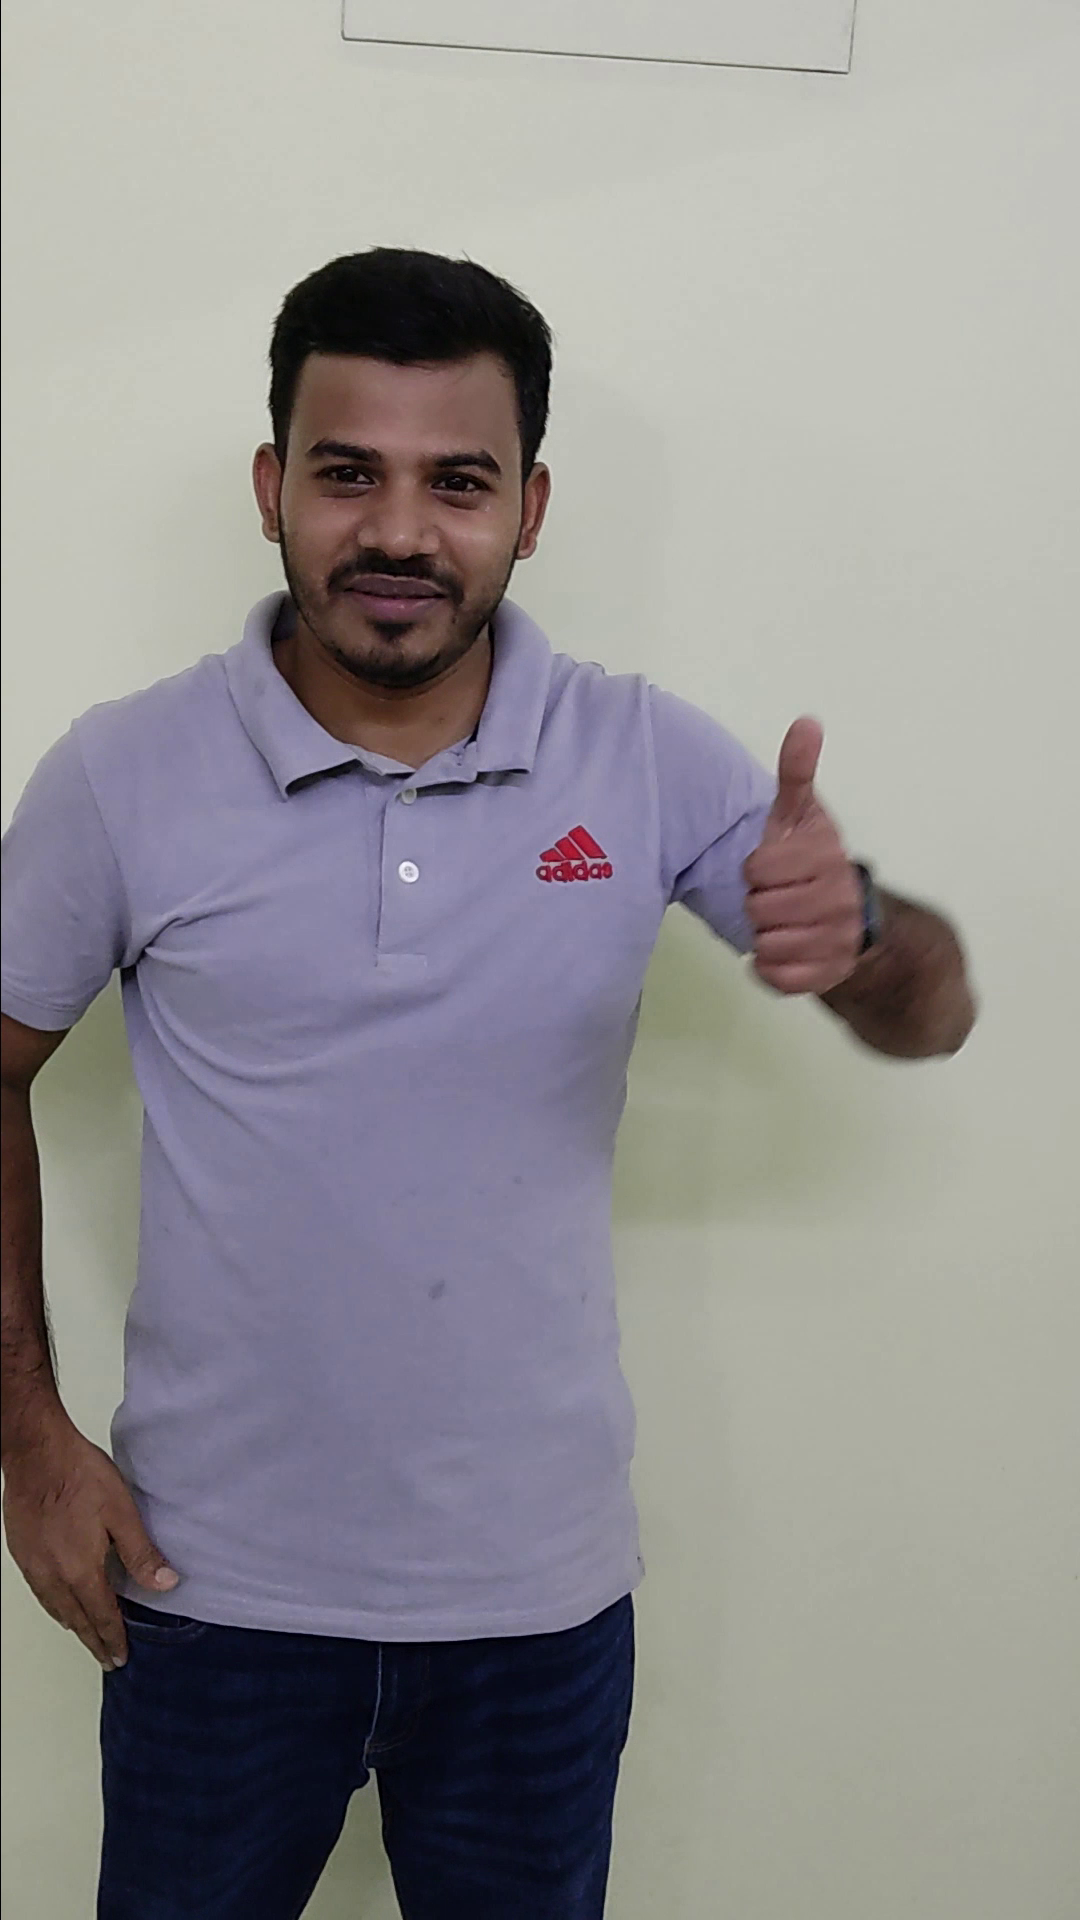Like: (699, 702, 901, 1004)
None: (3, 1395, 198, 1679)
